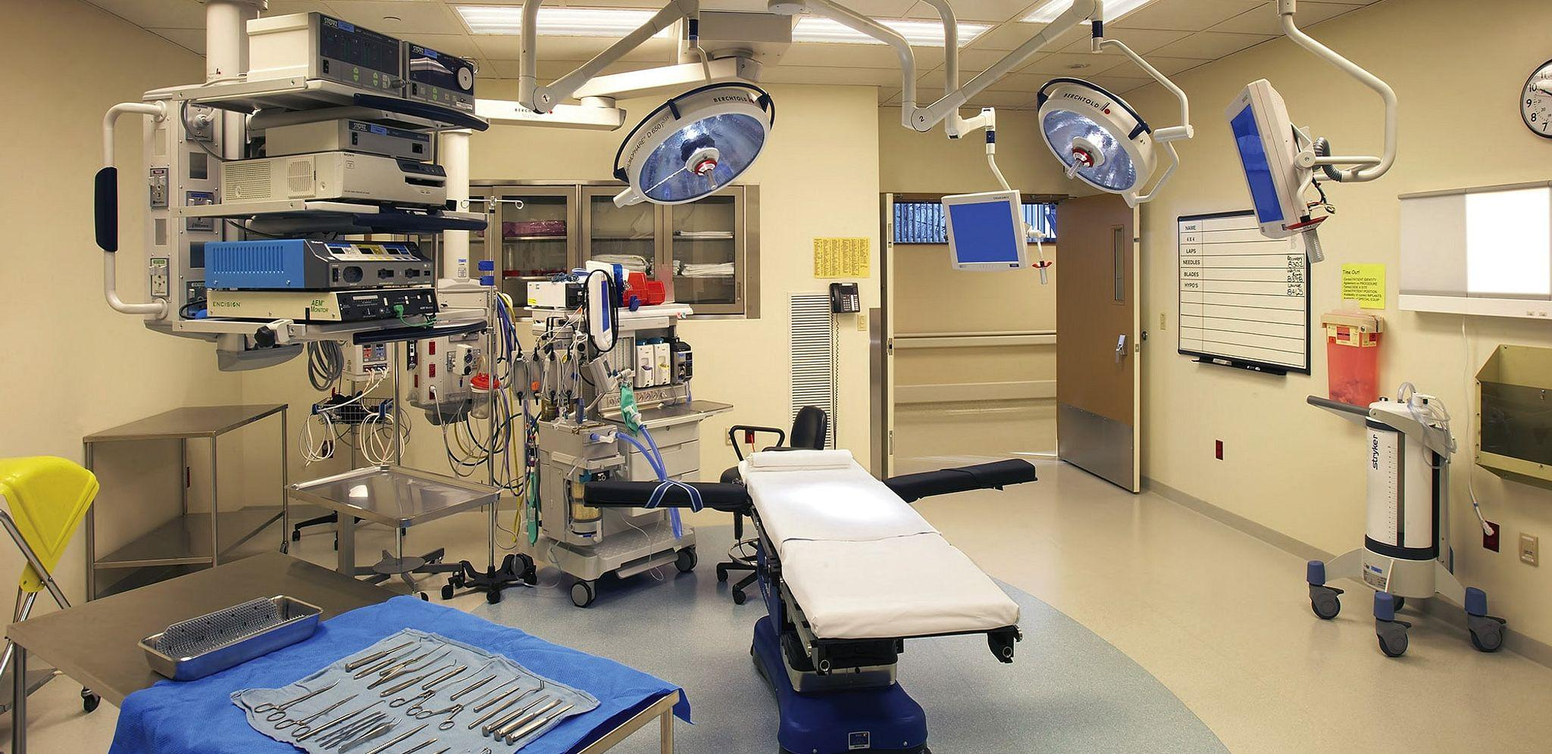Monitor: (1226, 69, 1336, 253), (935, 180, 1034, 286)
bed: (724, 444, 1034, 752)
bin: (1307, 313, 1393, 416)
tools_table: (31, 556, 686, 752)
